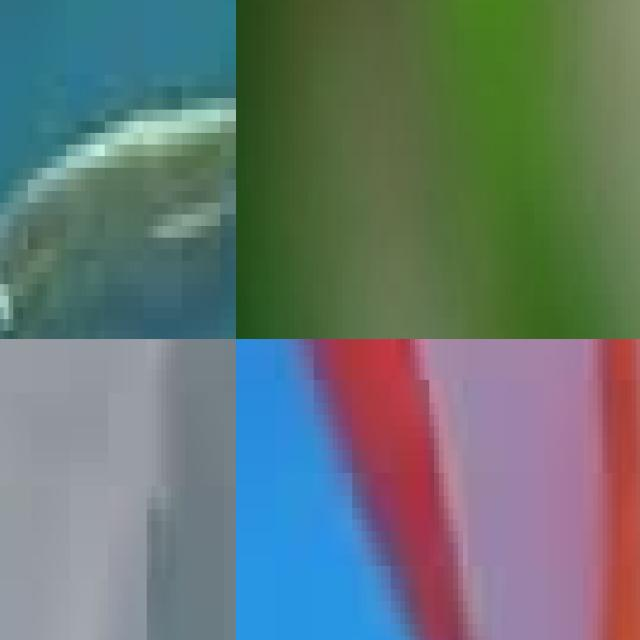fish: (236, 339, 640, 640), (0, 0, 236, 339), (103, 339, 236, 640)
